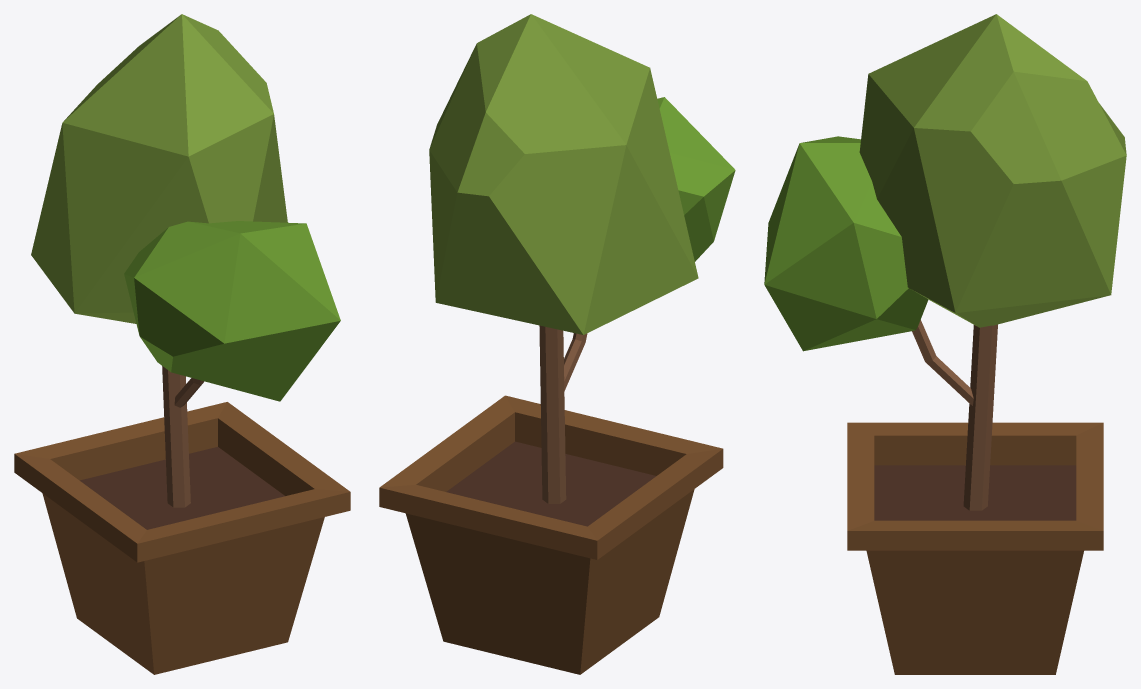
The model's file is pot3.fbx.
3 renders of one model, left to right at view 1: azimuth 30°, elevation 25°; view 2: azimuth 150°, elevation 25°; view 3: azimuth 270°, elevation 25°, orthographic. The views are drawn at different scales.
Parts seen in each view (by area): view 1: Cube.011; view 2: Cube.011; view 3: Cube.011.
Part boxes in pixels (left/top/right/bottom): Cube.011: left=14, top=14, right=350, bottom=674; Cube.011: left=379, top=14, right=735, bottom=674; Cube.011: left=764, top=14, right=1126, bottom=674.
Bounding box in the file's own units: 1.49 × 3.71 × 1.93.
